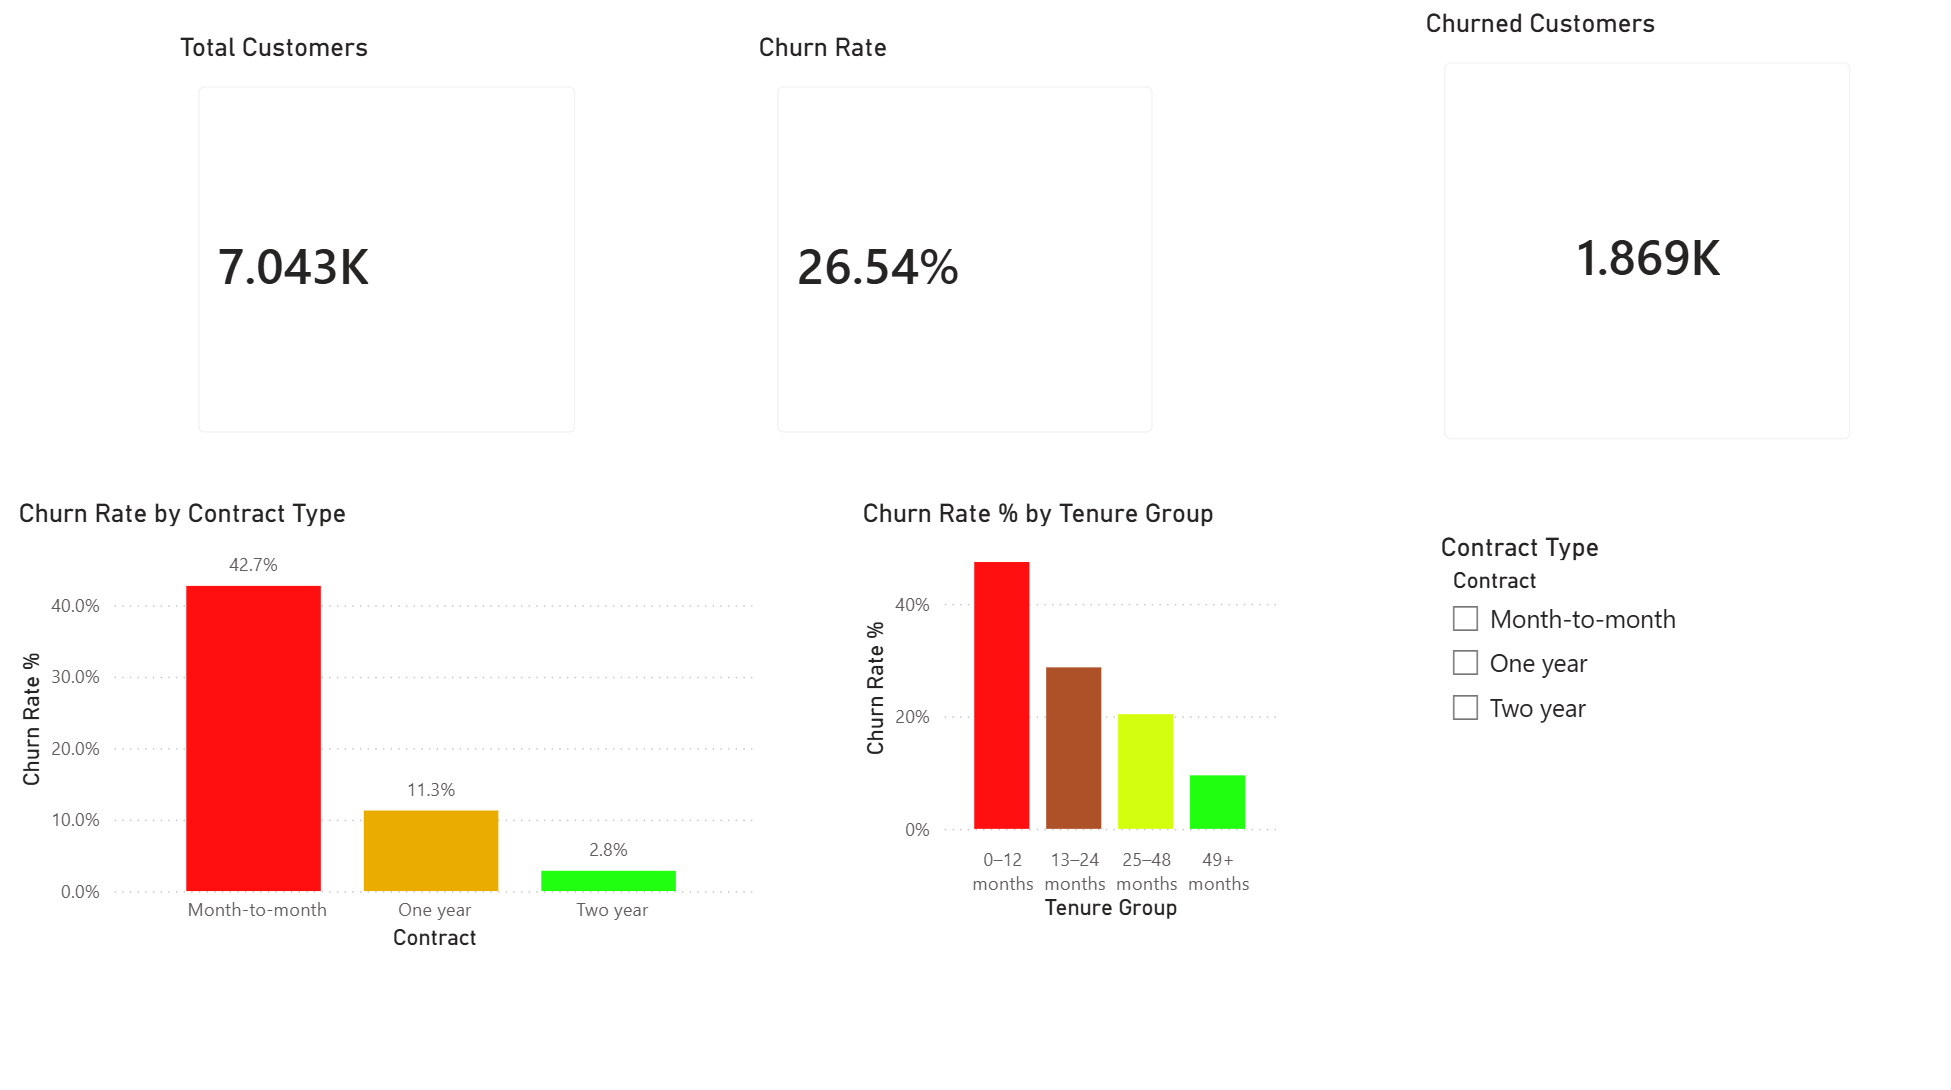

Layout of this report page (visuals, bound fields, positions):
{"tool":"powerbi","page":{"name":"01. Overall Churn Overview","canvas":[1280,720],"ordinal":0},"visuals":[{"type":"cardVisual","title":"Total Customers","fields":{"Data":["CountNonNull(customer_churn_raw.customerID)"]},"box":[188.5,120.4,280.1,280.1],"z":0},{"type":"cardVisual","title":"Churn Rate","fields":{"Data":["customer_churn_raw.Churn Rate %"]},"box":[494.1,129.6,280.1,280.1],"z":1000},{"type":"cardVisual","title":"Churned Customers","fields":{"Data":["customer_churn_raw.Churned Customers"]},"box":[774.4,130,300,300],"z":2000},{"type":"clusteredColumnChart","title":"Churn Rate by Contract Type","fields":{"Category":["customer_churn_raw.Contract"],"Y":["customer_churn_raw.Churn Rate %"]},"box":[0,420,490,300],"z":3000},{"type":"clusteredColumnChart","fields":{"Category":["customer_churn_raw.Tenure Group"],"Y":["customer_churn_raw.Churn Rate %"]},"box":[506.4,430,280,280],"z":4000},{"type":"slicer","title":"Contract Type","fields":{"Values":["customer_churn_raw.Contract"]},"box":[851.7,440,280,280],"z":5000}]}

Visuals, with their boxes in screenshot pixels (x1, y1, x2, y2), scaled from the page's 1280x720 canvas onto the 1951x1090 screenshot:
"Total Customers" cardVisual: [287,182,714,606]
"Churn Rate" cardVisual: [753,196,1180,620]
"Churned Customers" cardVisual: [1180,197,1638,651]
"Churn Rate by Contract Type" clusteredColumnChart: [0,636,747,1089]
clusteredColumnChart - customer_churn_raw.Tenure Group x customer_churn_raw.Churn Rate %: [772,651,1199,1075]
"Contract Type" slicer: [1298,666,1725,1089]
